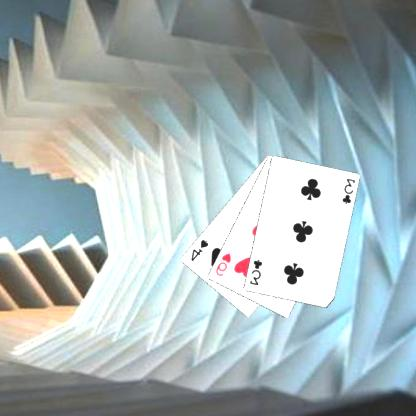3C: (249, 256, 266, 286), (341, 176, 358, 206)
4S: (190, 237, 211, 262)
6H: (215, 250, 234, 278)
